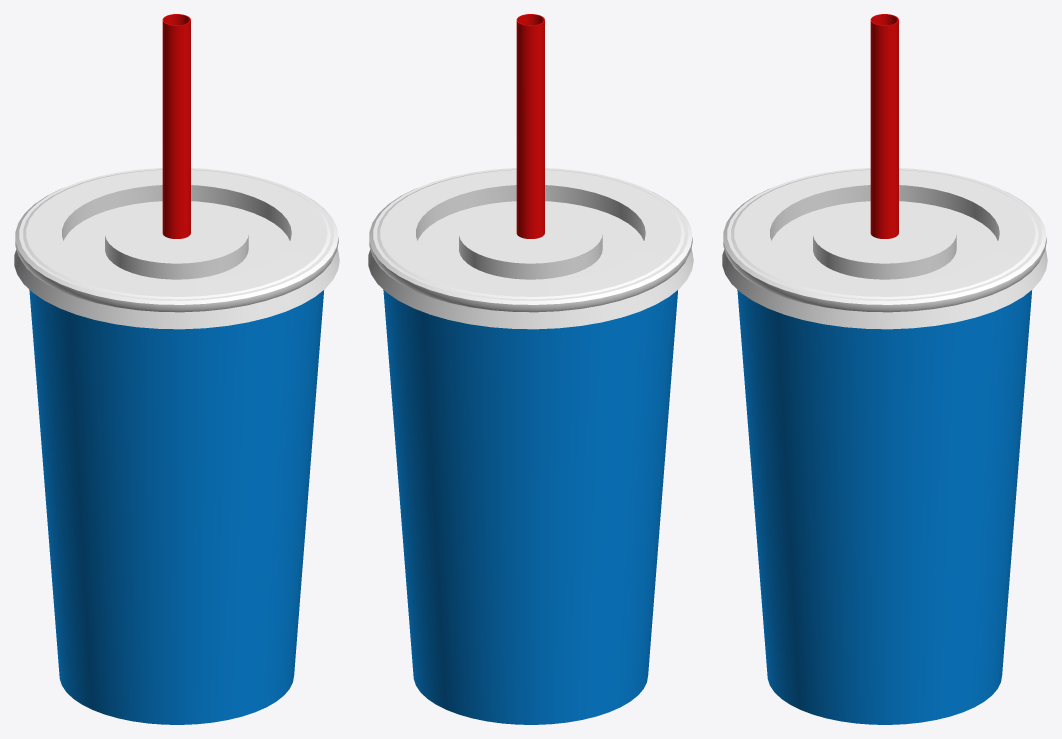
File: soda_cup.glb
3 renders of one model, left to right at view 1: azimuth 30°, elevation 25°; view 2: azimuth 150°, elevation 25°; view 3: azimuth 270°, elevation 25°, orthographic.
Parts seen in each view (by area): view 1: Sodacup_0; view 2: Sodacup_0; view 3: Sodacup_0.
Boxes of the visible parts, bbox=[...] form: Sodacup_0: bbox=[14, 14, 339, 724]; Sodacup_0: bbox=[368, 14, 693, 724]; Sodacup_0: bbox=[722, 14, 1047, 724].
Bounding box in the file's own units: 2.76 × 6.12 × 2.75.
